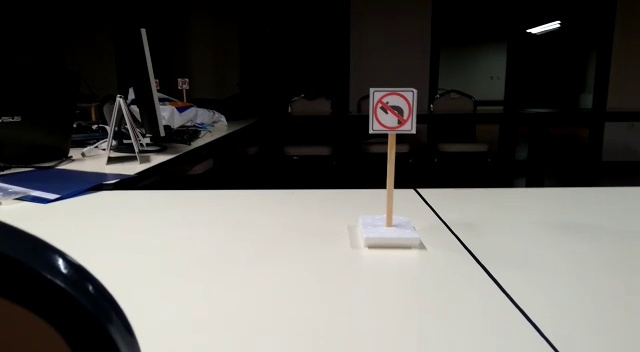sola_donulmez: (373, 86, 414, 133)
